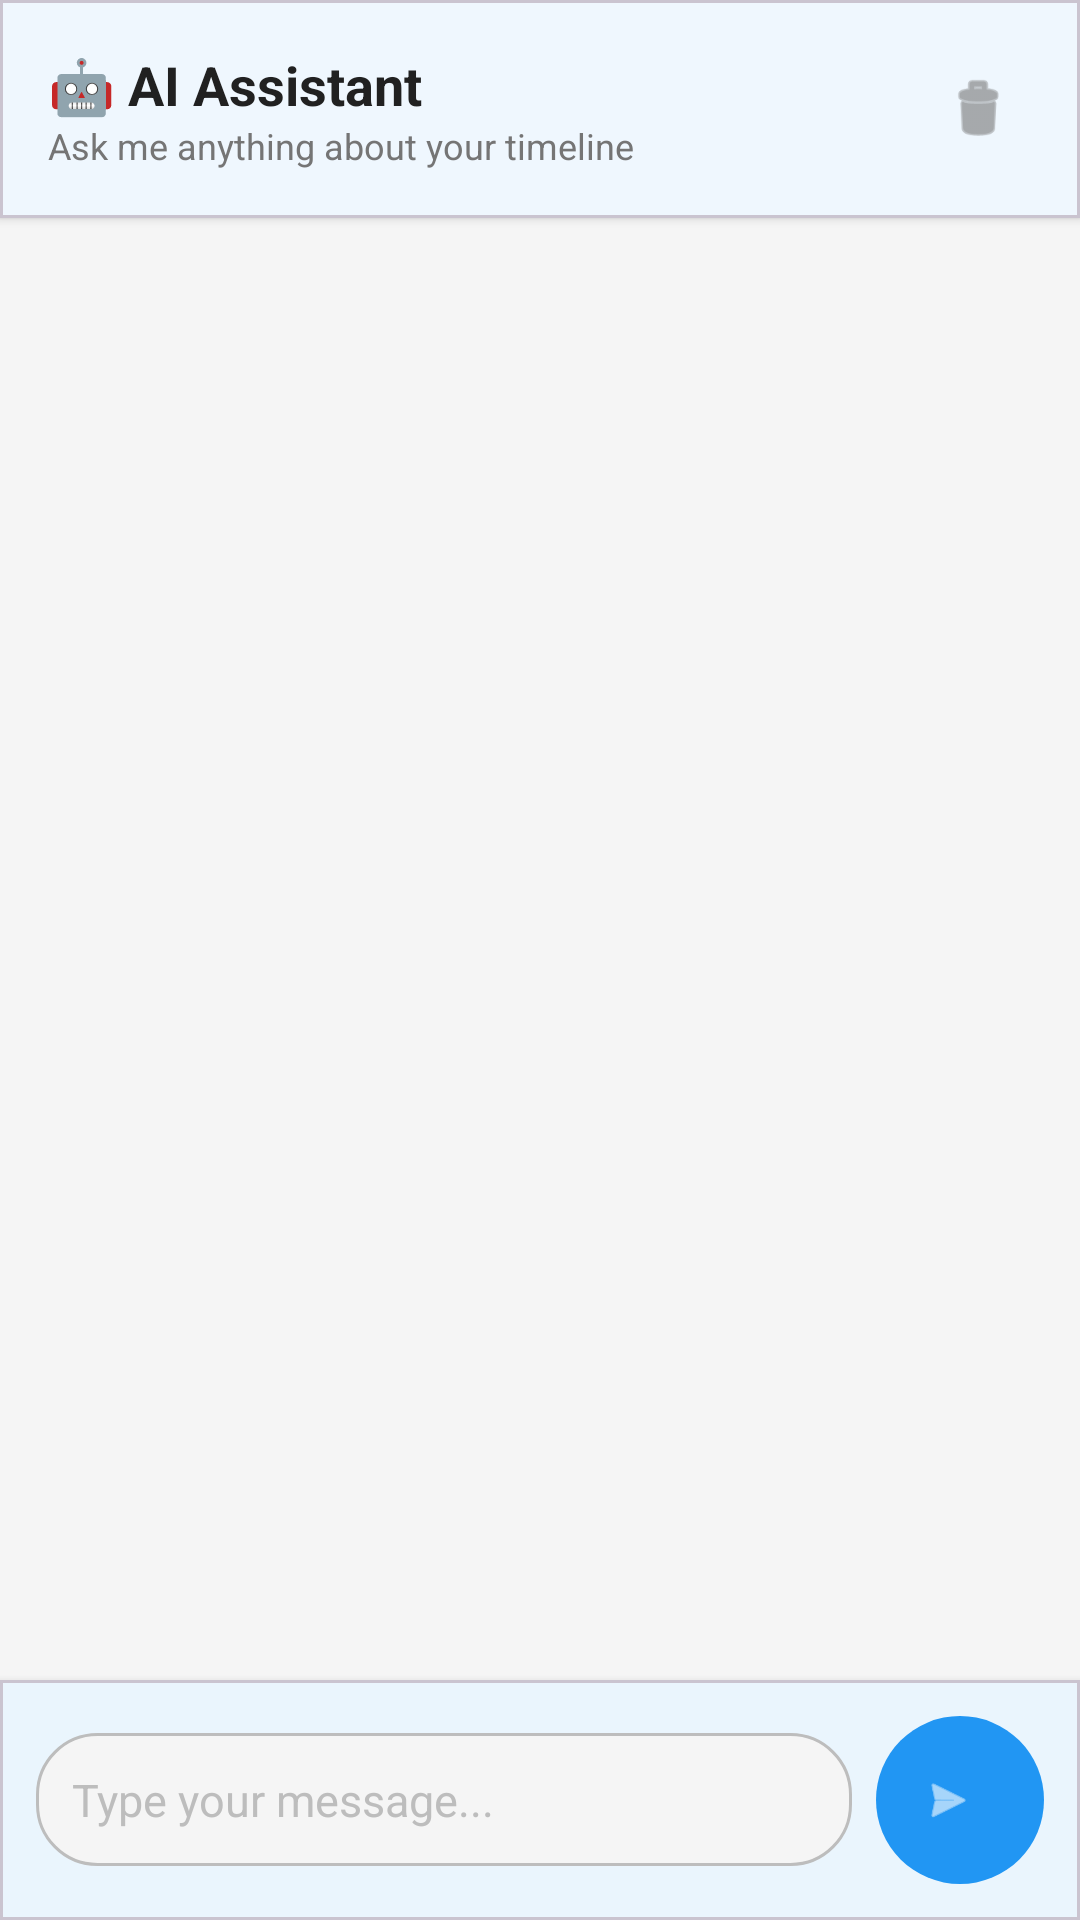

Screen size 1080×1920. Icon name, then its box in pixels as Rect(x1, y1, x2, y2):
Clear chat: Rect(958, 80, 999, 136)
send: Rect(876, 1716, 1044, 1884)
